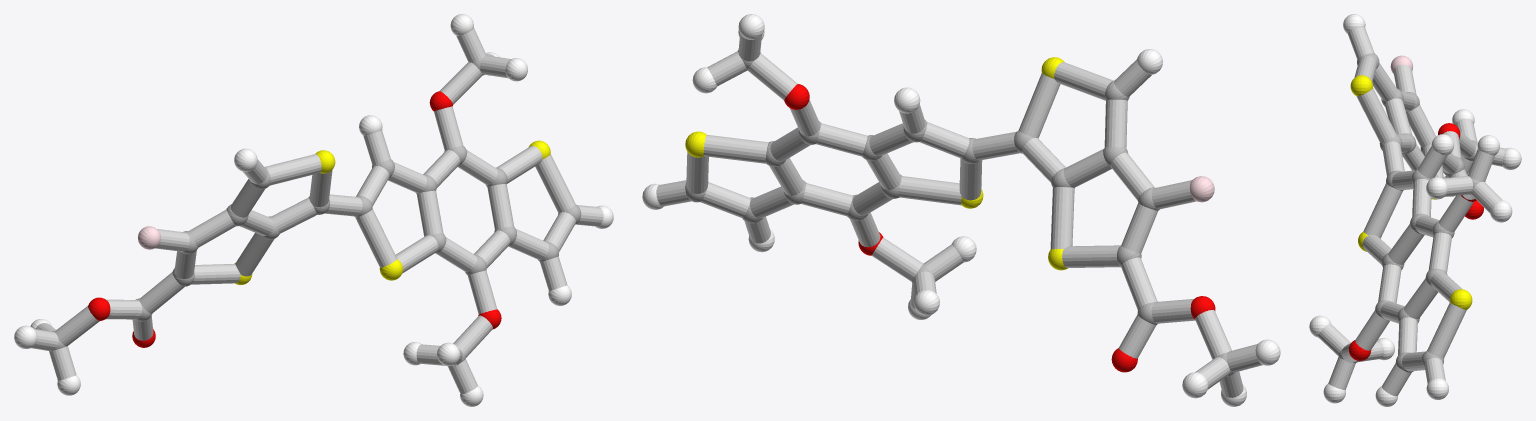
The model's file is color.glb.
The picture shows the model from 3 angles, left to right: view 1: azimuth 30°, elevation 25°; view 2: azimuth 150°, elevation 25°; view 3: azimuth 270°, elevation 25°; orthographic projection. The views are drawn at different scales.
Visible parts, largest first — view 1: grp15205, grp8689, grp1, grp13395, grp7241; view 2: grp15205, grp8689, grp1, grp13395, grp7241; view 3: grp15205, grp8689, grp1, grp7241, grp13395, grp14843.
Boxes of the visible parts, x1,y1,x2,y2 form: grp15205: (31,28,603,393); grp8689: (14,14,613,406); grp1: (52,54,581,366); grp13395: (88,91,501,347); grp7241: (234,140,550,284); grp15205: (656,34,1262,397); grp8689: (642,14,1280,406); grp1: (685,50,1235,376); grp13395: (784,84,1215,372); grp7241: (685,57,1067,270); grp15205: (1318,27,1505,396); grp8689: (1309,14,1521,406); grp1: (1338,53,1480,372); grp7241: (1350,75,1472,309); grp13395: (1349,123,1483,360); grp14843: (1390,55,1413,73).
Bounding box in the file's own units: 17.14 × 8.83 × 5.67.
